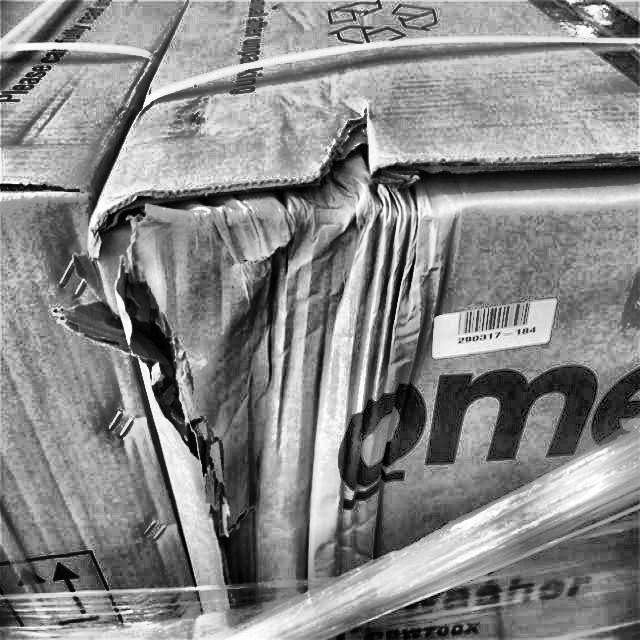box: (0, 0, 639, 639)
hole: (133, 263, 237, 499)
